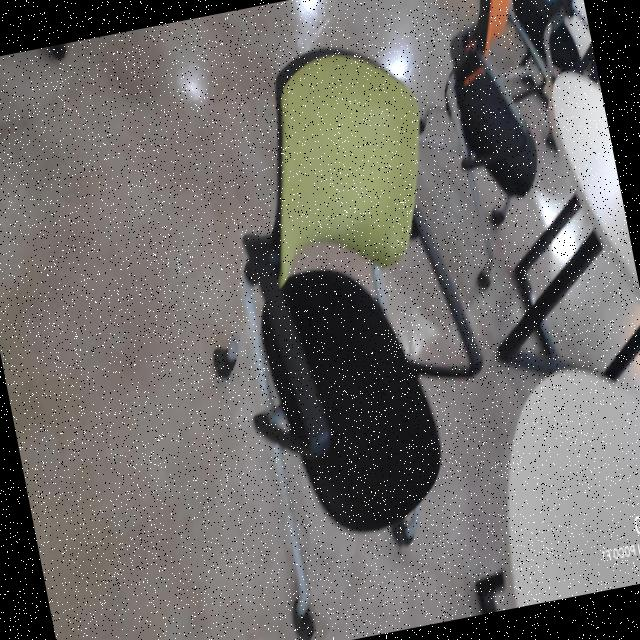Chair: (142, 13, 530, 640)
